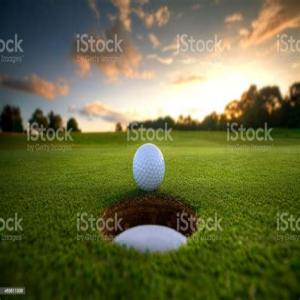Golf: (132, 144, 165, 188)
